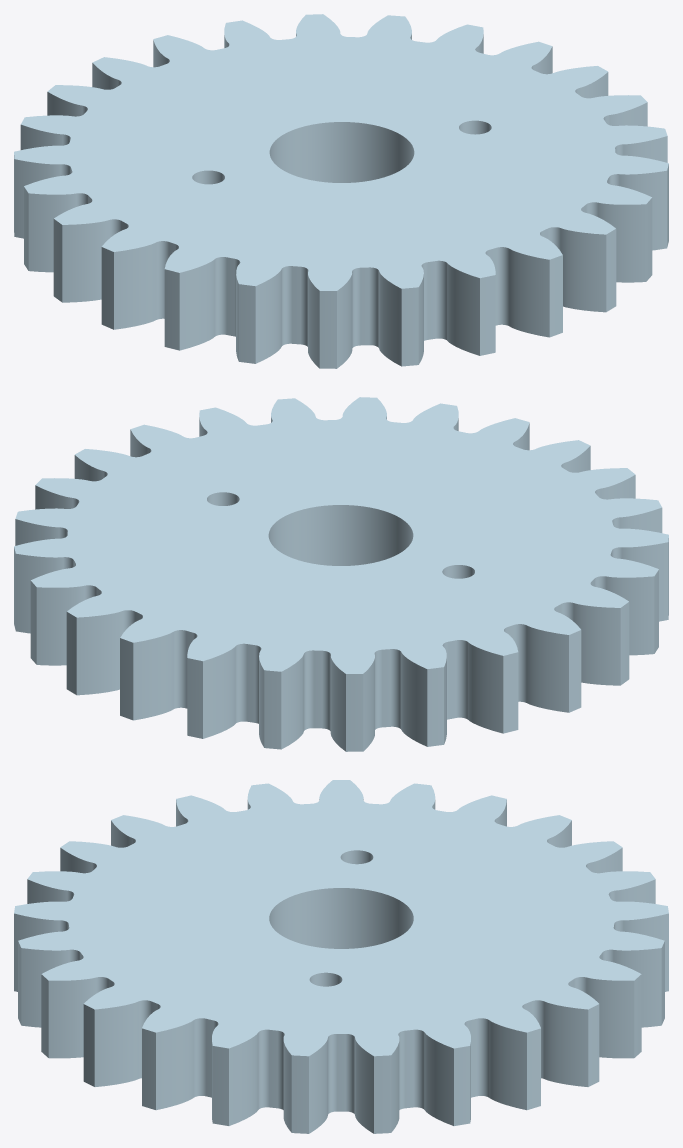
File: Spur_gear__25_teeth_.gltf
The picture shows the model from 3 angles, top to bottom: view 1: azimuth 30°, elevation 25°; view 2: azimuth 150°, elevation 25°; view 3: azimuth 270°, elevation 25°; orthographic projection.
Visible parts, largest first — view 1: mesh725, mesh877, mesh816, mesh847, mesh852, mesh821, mesh837, mesh801, mesh826, mesh857, mesh842, mesh796 (+30 smaller); view 2: mesh725, mesh877, mesh777, mesh861, mesh856, mesh782, mesh871, mesh762, mesh787, mesh851, mesh866, mesh757 (+30 smaller); view 3: mesh725, mesh877, mesh756, mesh797, mesh761, mesh802, mesh766, mesh807, mesh771, mesh812, mesh776, mesh817 (+31 smaller).
Boxes of the visible parts, x1,y1,x2,y2 form: mesh725: (14, 14, 668, 290); mesh877: (269, 122, 414, 182); mesh816: (560, 228, 606, 312); mesh847: (114, 242, 156, 329); mesh852: (62, 220, 108, 302); mesh821: (509, 249, 549, 337); mesh837: (179, 259, 214, 350); mesh801: (598, 202, 646, 282); mesh826: (447, 264, 479, 355); mesh857: (28, 193, 76, 272); mesh842: (255, 269, 281, 363); mesh796: (619, 170, 667, 250); mesh725: (14, 397, 668, 673); mesh877: (268, 505, 413, 565); mesh777: (76, 611, 122, 695); mesh861: (526, 625, 568, 712); mesh856: (574, 603, 620, 685); mesh782: (133, 632, 173, 720); mesh871: (468, 642, 503, 733); mesh762: (36, 585, 84, 665); mesh787: (203, 647, 235, 738); mesh851: (606, 576, 654, 655); mesh866: (401, 652, 427, 746); mesh757: (15, 553, 63, 633); mesh725: (14, 780, 668, 1056); mesh877: (269, 888, 413, 948); mesh756: (544, 1001, 588, 1086); mesh797: (94, 1001, 138, 1086); mesh761: (586, 977, 634, 1058); mesh802: (48, 977, 96, 1058); mesh766: (489, 1020, 526, 1110); mesh807: (156, 1020, 193, 1110); mesh771: (424, 1033, 453, 1125); mesh812: (229, 1033, 258, 1125); mesh776: (613, 948, 661, 1027); mesh817: (21, 948, 69, 1027).
Bounding box in the file's own units: 0.0539 × 0.00706 × 0.054.
